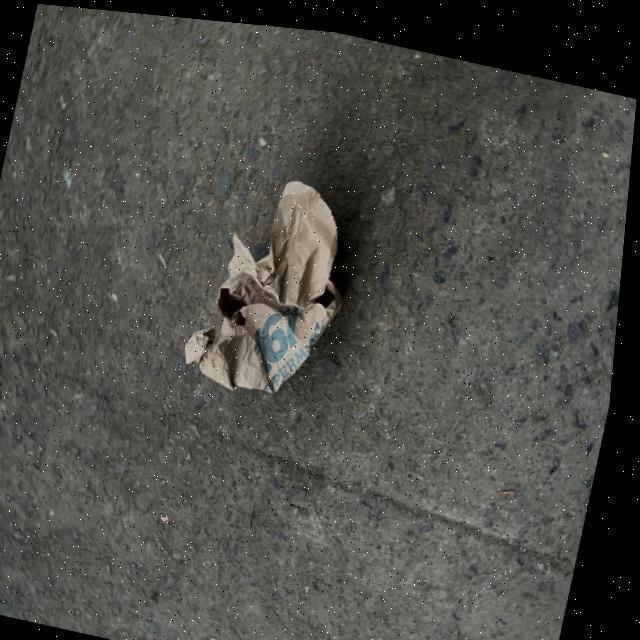Paper_Bag: (188, 158, 364, 405)
